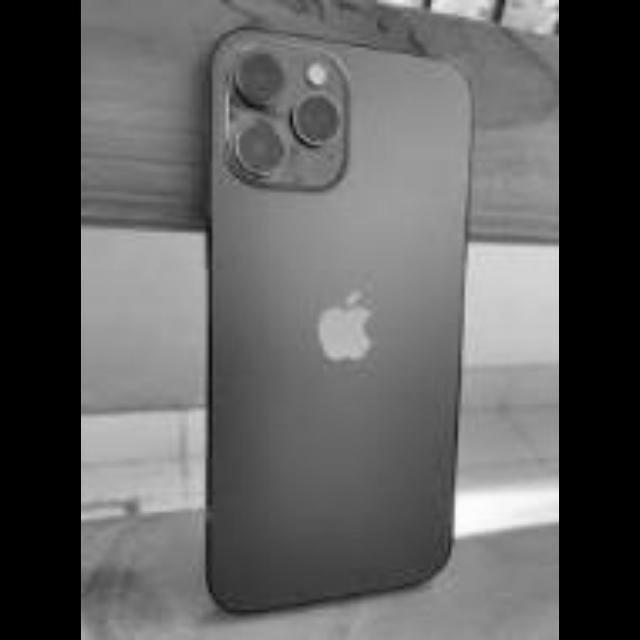fake: (189, 14, 466, 614)
